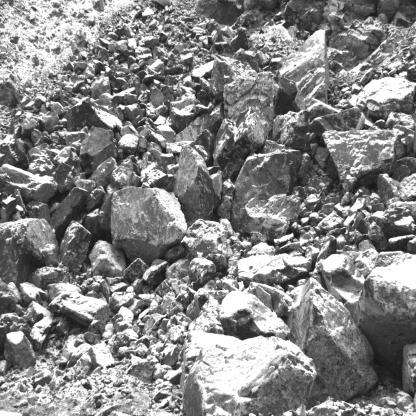stone: (183, 328, 318, 416), (288, 277, 378, 403), (353, 251, 416, 373), (321, 129, 408, 192), (110, 189, 186, 257), (231, 151, 301, 223), (280, 30, 329, 112), (213, 110, 271, 179), (0, 217, 59, 284), (217, 290, 294, 338), (172, 146, 219, 223), (223, 71, 297, 118), (237, 193, 298, 239), (236, 251, 312, 285), (321, 254, 366, 311), (208, 53, 258, 102), (355, 78, 416, 118), (47, 185, 89, 239), (0, 163, 58, 202), (66, 95, 123, 133), (49, 292, 110, 324), (183, 220, 231, 258), (59, 221, 93, 272), (79, 126, 115, 173), (311, 108, 365, 134), (91, 240, 127, 277), (5, 331, 37, 370), (279, 110, 311, 148), (190, 301, 223, 334), (53, 163, 87, 194), (27, 143, 57, 177), (188, 257, 216, 289), (400, 340, 416, 395), (166, 259, 190, 294), (142, 163, 174, 189), (89, 340, 117, 369), (110, 165, 141, 190), (32, 267, 67, 289), (53, 146, 83, 169), (143, 258, 168, 285), (122, 259, 148, 282), (171, 106, 194, 131), (125, 103, 145, 129), (90, 75, 111, 99), (190, 60, 214, 81), (149, 88, 173, 108), (117, 134, 138, 155), (157, 124, 176, 143), (43, 243, 58, 267), (269, 57, 284, 70), (124, 91, 137, 105)
